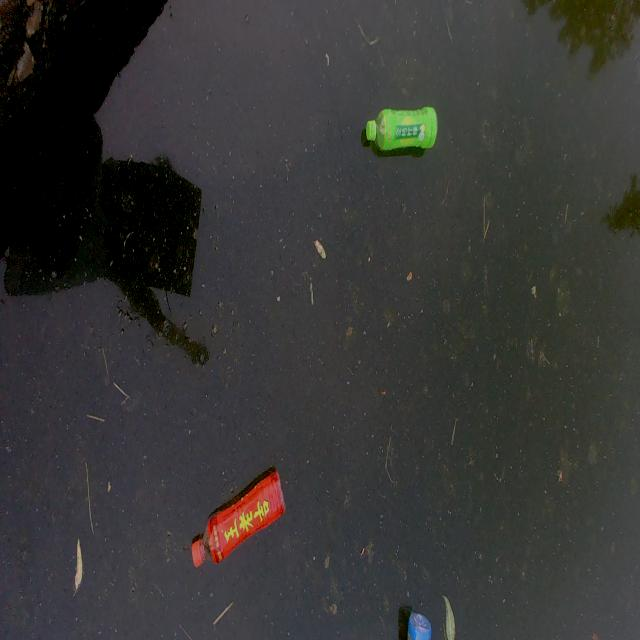bottle: (174, 434, 303, 590), (349, 102, 456, 162), (393, 605, 441, 640)
